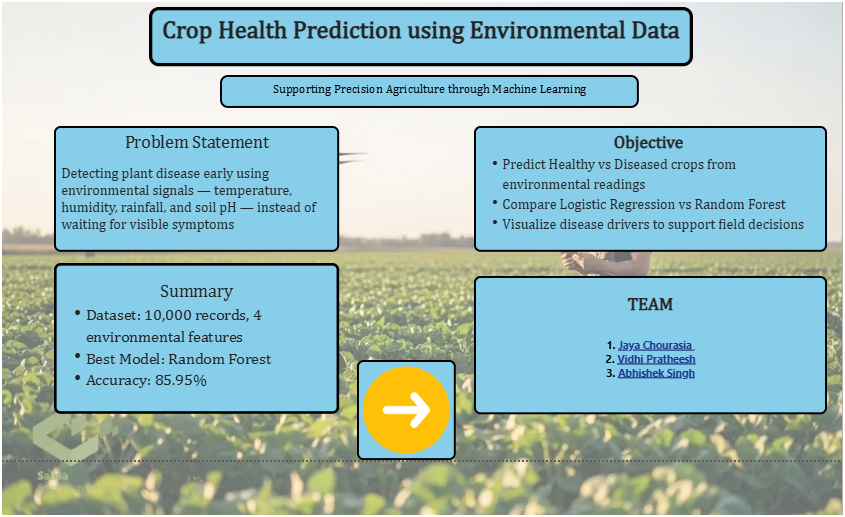

This screenshot's page, from the dashboard's own definition file:
{"tool":"powerbi","page":{"name":"intro","canvas":[1280,720],"ordinal":0},"visuals":[{"type":"textbox","box":[227.1,11,871.2,81.2],"z":0},{"type":"textbox","box":[328.9,103.2,668.9,52.3],"z":1000},{"type":"textbox","box":[84,378.5,432.2,228.5],"z":2000},{"type":"textbox","box":[721.2,169.3,535.4,191.3],"z":3000},{"type":"textbox","box":[84,169.3,432.2,191.3],"z":4000},{"type":"textbox","box":[721.2,378.5,535.4,209.2],"z":5000},{"type":"image","box":[1124.5,620.7,121.1,93.6],"z":6000},{"type":"advanceCardE03760C5AB684758B56AA29F9E6C257B","fields":{"mainMeasure":["plant_disease_powerbi_export.Total Records"]},"box":[84,620.7,257.4,93.6],"z":7000},{"type":"textbox","box":[407.4,620.7,283.5,93.6],"z":7001},{"type":"textbox","box":[750.1,620.7,283.5,93.6],"z":7002},{"type":"image","box":[878.1,173.4,52.3,38.5],"z":7003},{"type":"image","box":[852,390.9,52.3,56.4],"z":7004},{"type":"image","box":[136.3,396.4,152.8,45.4],"z":7005},{"type":"image","box":[136.3,173.4,39.9,53.7],"z":7006}]}

Visuals, with their boxes on the page's 1280x720 design canvas (x1, y1, x2, y2). These are canvas units, not pixel positions in the 845x517 screenshot, which may show the page scaled, cropped or inside an application window:
textbox: <box>227,11,1098,92</box>
textbox: <box>329,103,998,156</box>
textbox: <box>84,378,516,607</box>
textbox: <box>721,169,1257,361</box>
textbox: <box>84,169,516,361</box>
textbox: <box>721,378,1257,588</box>
image: <box>1124,621,1246,714</box>
advanceCardE03760C5AB684758B56AA29F9E6C257B - plant_disease_powerbi_export.Total Records: <box>84,621,341,714</box>
textbox: <box>407,621,691,714</box>
textbox: <box>750,621,1034,714</box>
image: <box>878,173,930,212</box>
image: <box>852,391,904,447</box>
image: <box>136,396,289,442</box>
image: <box>136,173,176,227</box>
